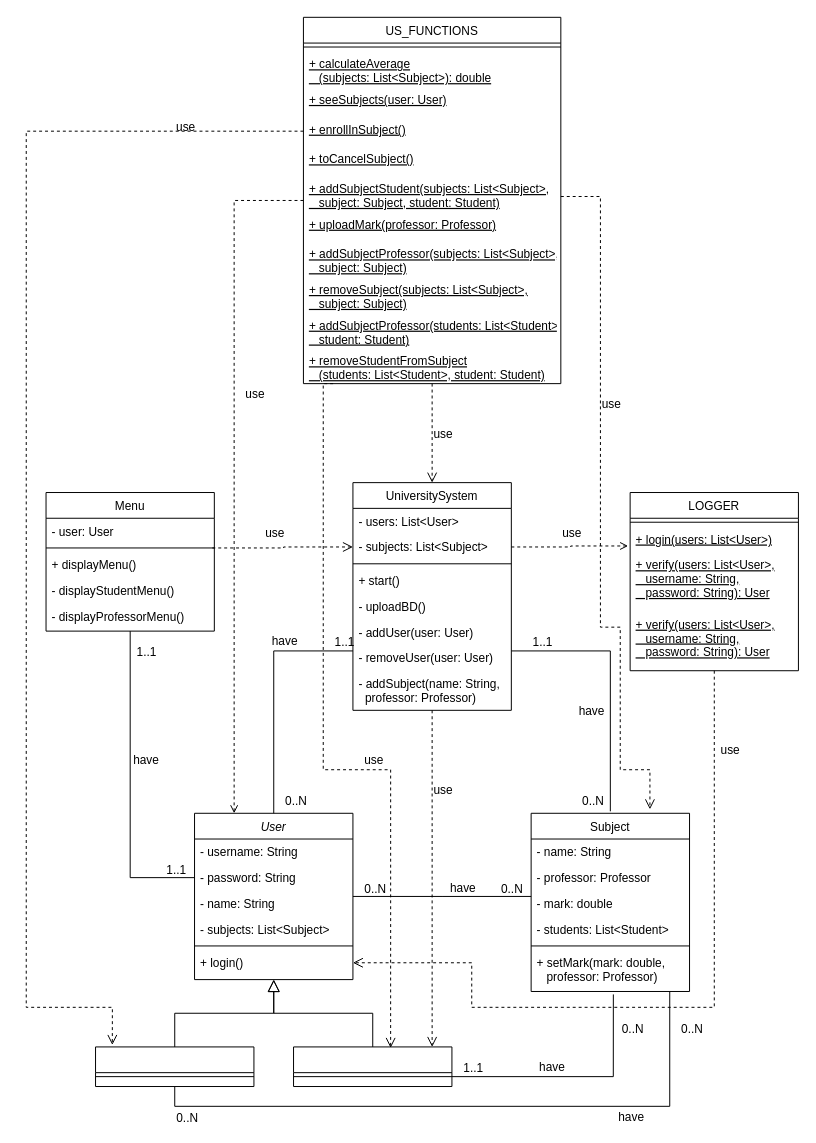
Image size: 816x1143. Some labels were removed from this diagram. Here are the shapes that lost their labels. From the top down, the centre of each, then its label:
[174,1066]: Student
[372,1066]: Professor
